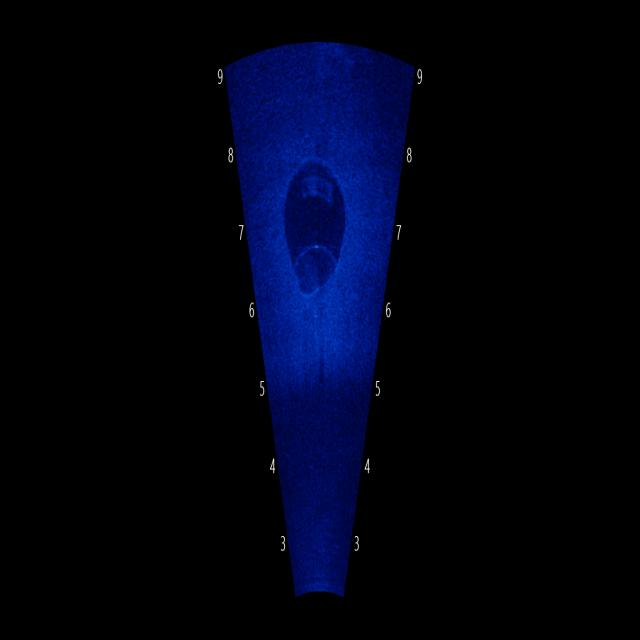circle: (275, 152, 353, 305)
